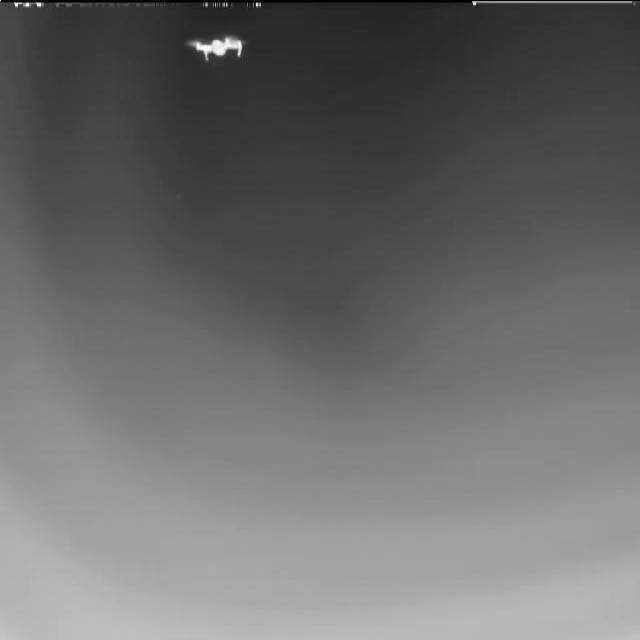DRONE: (187, 33, 250, 62)
